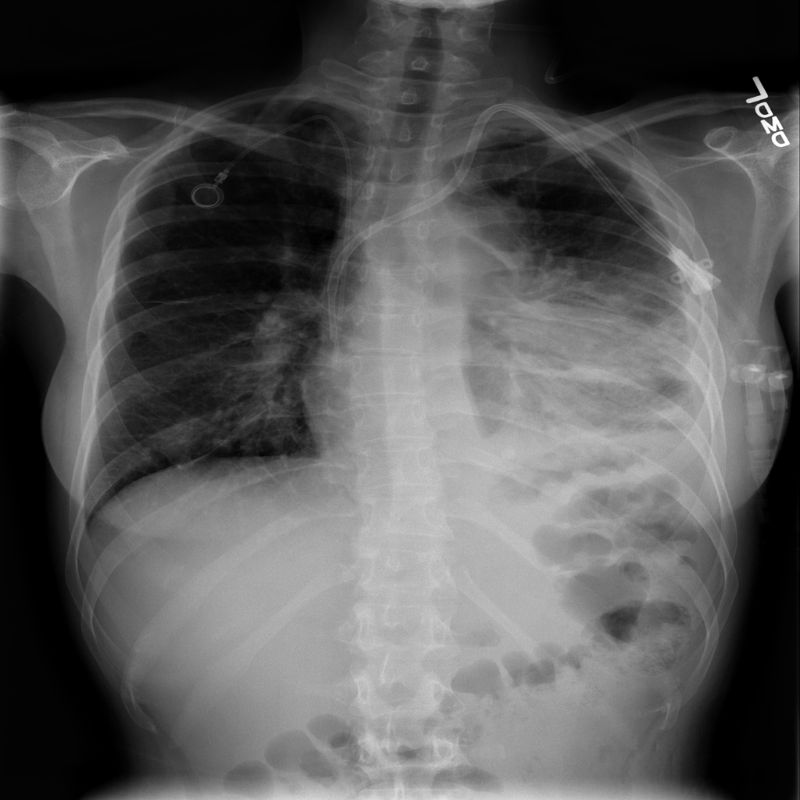PLEURAL EFFUSION: (550, 315, 717, 552)
